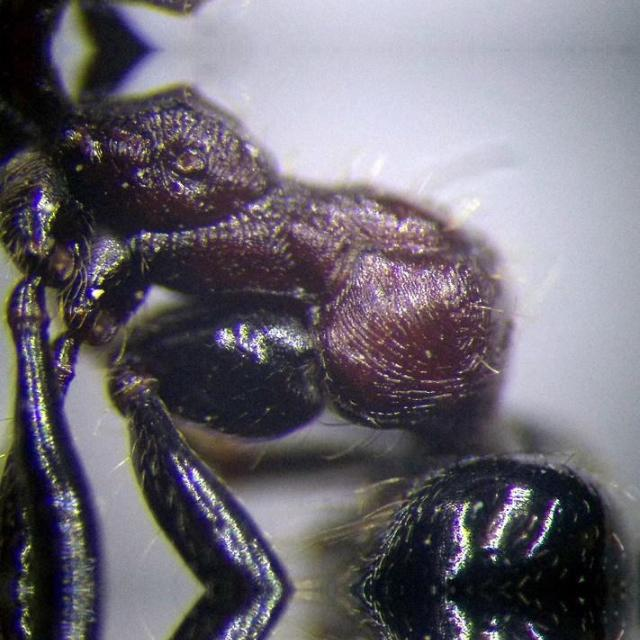Messor: (0, 51, 640, 588)
